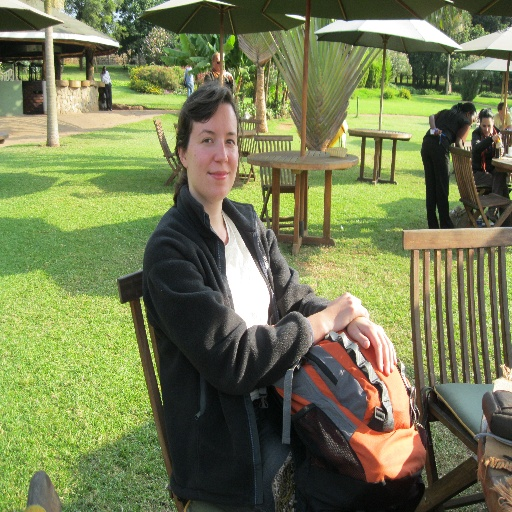hand: (332, 308, 388, 374), (325, 289, 369, 335), (430, 126, 442, 136), (491, 133, 501, 144), (500, 145, 505, 159)
